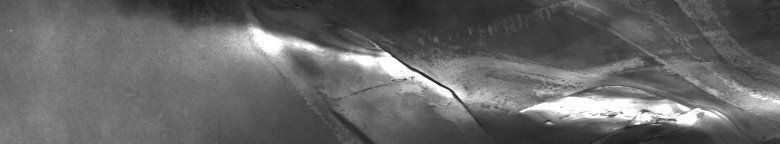ke: (241, 16, 716, 136)
